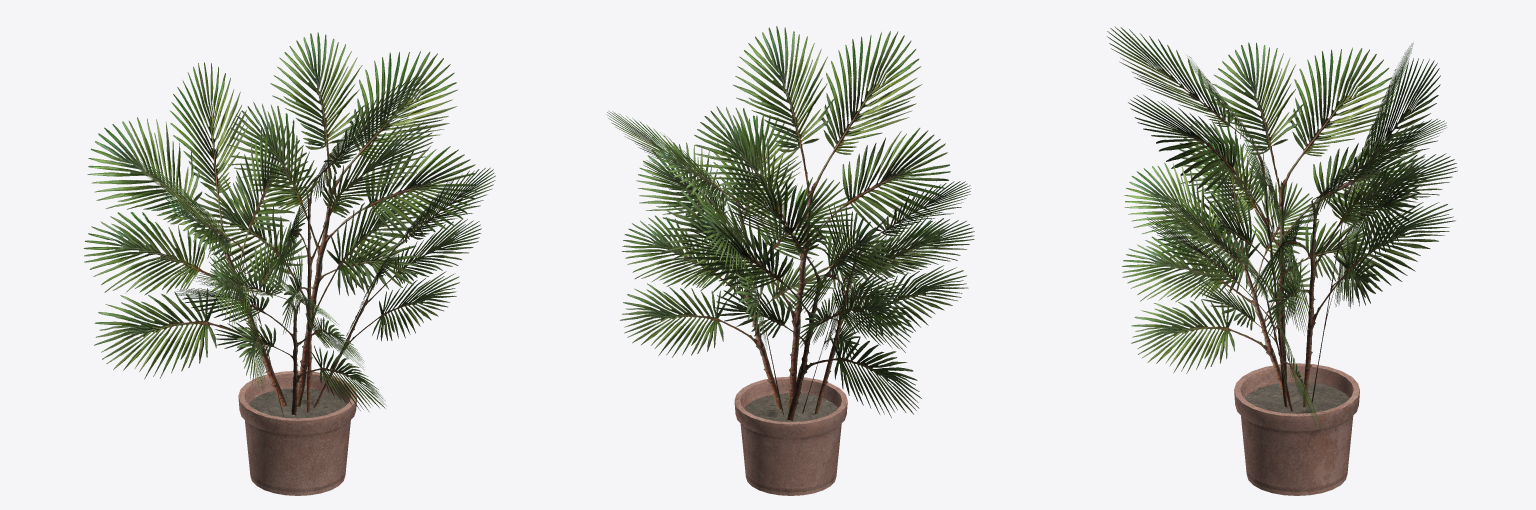
Rendered from HH_Potted_Plant_01.fbx.
3 views of the same model, side by side, from view 1: azimuth 30°, elevation 25°; view 2: azimuth 150°, elevation 25°; view 3: azimuth 270°, elevation 25° (orthographic). The views are drawn at different scales.
Parts seen in each view (by area): view 1: HH_Potted_Plant_01_LOD0; view 2: HH_Potted_Plant_01_LOD0; view 3: HH_Potted_Plant_01_LOD0.
Part boxes in pixels (box(x1,y1,x2,y2)): HH_Potted_Plant_01_LOD0: box(83, 32, 495, 495); HH_Potted_Plant_01_LOD0: box(606, 26, 974, 495); HH_Potted_Plant_01_LOD0: box(1107, 26, 1457, 495).
Size of what is drawn, in the model's own units: 221 by 200 by 181.
